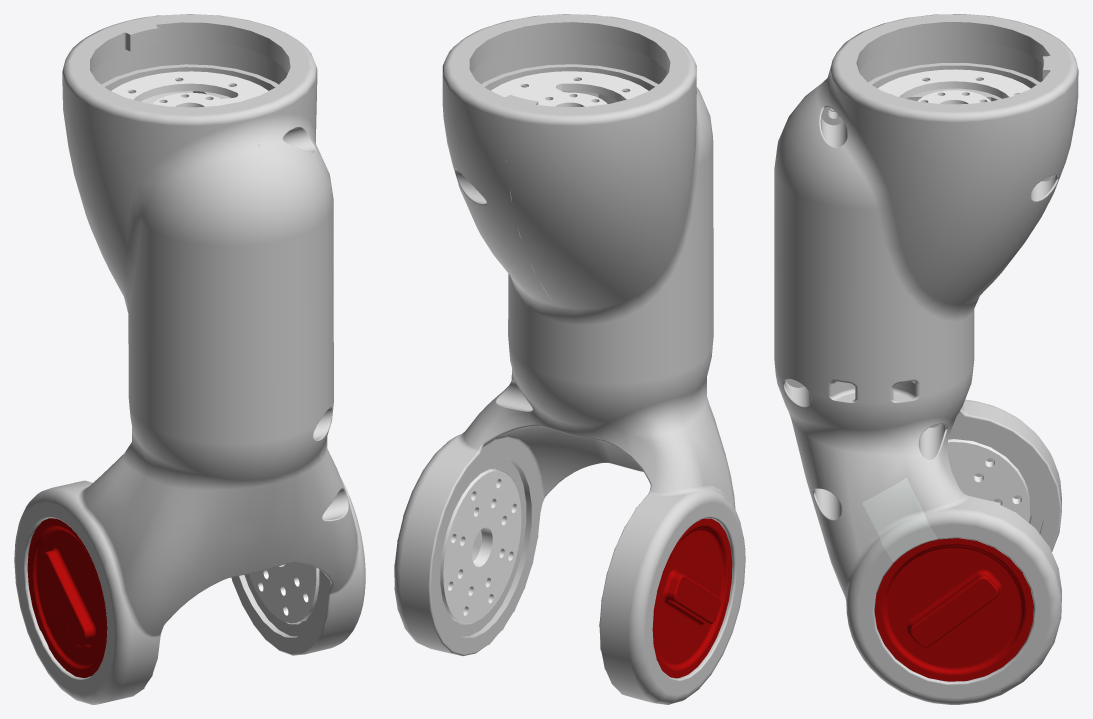
Rendered from Sciurus17_r4.gltf.
The picture shows the model from 3 angles, left to right: view 1: azimuth 30°, elevation 25°; view 2: azimuth 150°, elevation 25°; view 3: azimuth 270°, elevation 25°; orthographic projection. The views are drawn at different scales.
Parts seen in each view (by area): view 1: フレームV; view 2: フレームV; view 3: フレームV.
Boxes of the visible parts, x1,y1,x2,y2 form: フレームV: [14, 14, 365, 704]; フレームV: [394, 14, 745, 704]; フレームV: [774, 14, 1078, 704].
Bounding box in the file's own units: 0.0721 × 0.162 × 0.0761.
